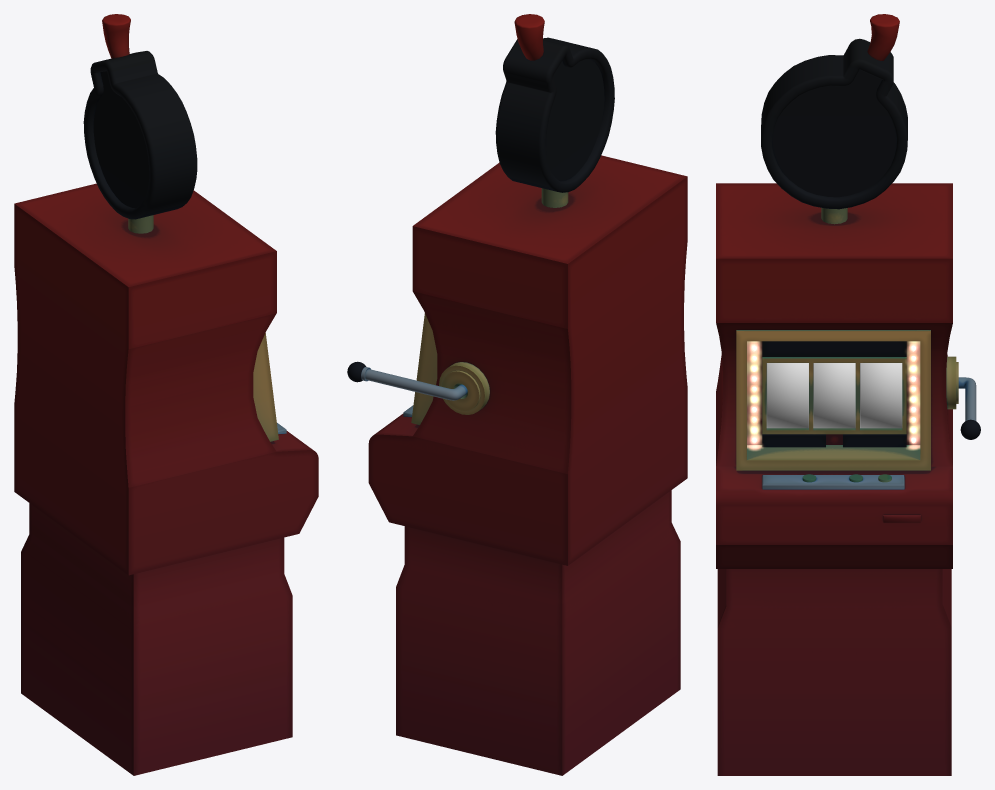
File: SlotMachineWTangents.fbx
3 renders of one model, left to right at view 1: azimuth 30°, elevation 25°; view 2: azimuth 150°, elevation 25°; view 3: azimuth 270°, elevation 25°, orthographic. The views are drawn at different scales.
Visible parts, largest first — view 1: SlotMachine, Bomb, CylinderFrame; view 2: SlotMachine, Bomb, Cylinder.001, CylinderFrame, Cylinder.002; view 3: SlotMachine, Bomb, CylinderFrame, Slots, Cube.002, Plane, Cube.005, Cube.007, Cube.004, Cube.008, Cylinder.001, Cylinder.002 (+1 smaller).
Boxes of the visible parts, x1,y1,x2,y2 form: SlotMachine: (14, 183, 318, 775); Bomb: (83, 14, 197, 219); CylinderFrame: (253, 333, 278, 441); SlotMachine: (368, 155, 687, 775); Bomb: (495, 14, 614, 192); Cylinder.001: (439, 362, 489, 414); CylinderFrame: (411, 313, 437, 424); Cylinder.002: (361, 367, 467, 400); SlotMachine: (716, 183, 952, 775); Bomb: (761, 14, 907, 209); CylinderFrame: (736, 330, 930, 470); Slots: (766, 363, 902, 428); Cube.002: (762, 357, 906, 434); Plane: (747, 341, 920, 444); Cube.005: (762, 341, 906, 356); Cube.007: (762, 475, 904, 489); Cube.004: (843, 434, 906, 447); Cube.008: (762, 434, 825, 447); Cylinder.001: (946, 356, 958, 409); Cylinder.002: (958, 377, 976, 421).
Size of the model in its own units: 45.63 by 148 by 50.29.
